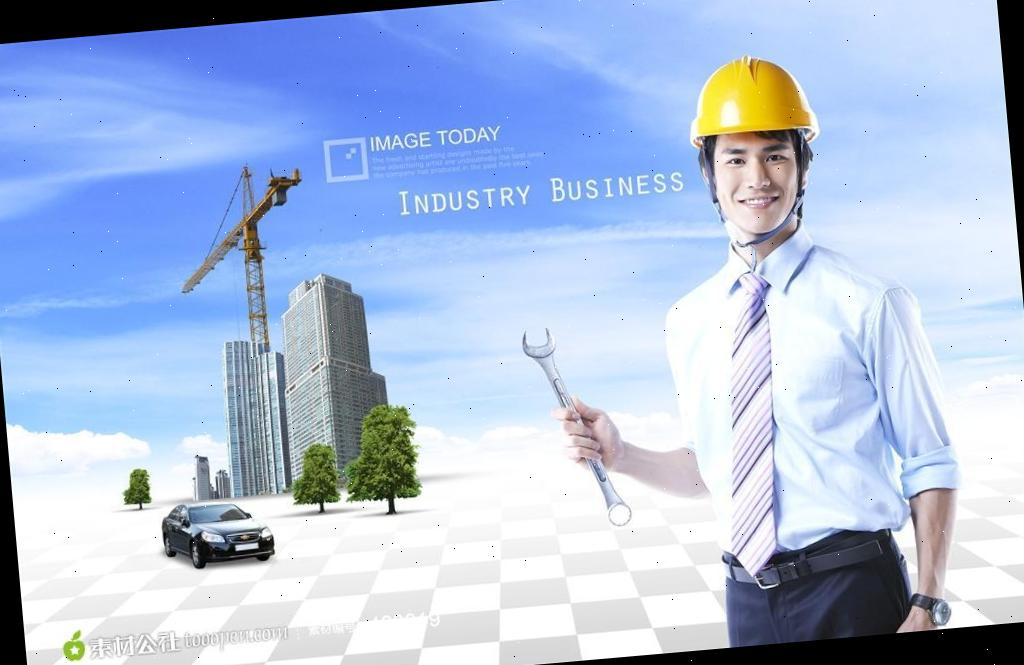helmet: (680, 49, 822, 151)
no_wear: (665, 244, 889, 562)
